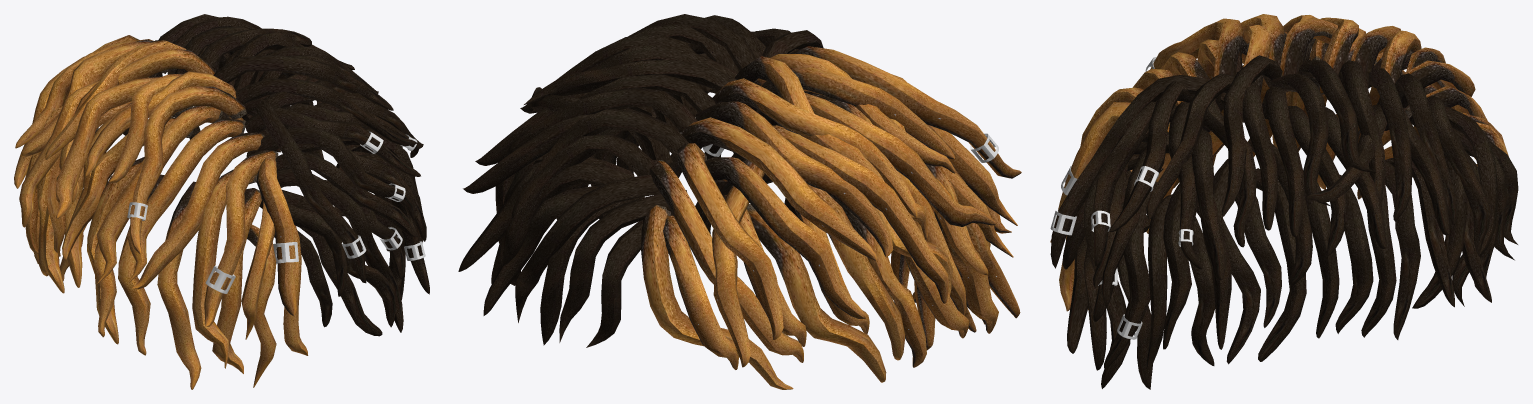
File: braids.glb
3 views of the same model, side by side, from view 1: azimuth 30°, elevation 25°; view 2: azimuth 150°, elevation 25°; view 3: azimuth 270°, elevation 25° (orthographic). The views are drawn at different scales.
Visible parts, largest first — view 1: Mesh_0017_Tex_0008_0.dds_0; view 2: Mesh_0017_Tex_0008_0.dds_0; view 3: Mesh_0017_Tex_0008_0.dds_0.
Boxes of the visible parts, left/top/right/bottom form: Mesh_0017_Tex_0008_0.dds_0: left=14, top=14, right=429, bottom=389; Mesh_0017_Tex_0008_0.dds_0: left=458, top=14, right=1021, bottom=389; Mesh_0017_Tex_0008_0.dds_0: left=1050, top=14, right=1518, bottom=389.
Bounding box in the file's own units: 0.9786 × 0.6974 × 0.9649.
1 material, 1 textured.
